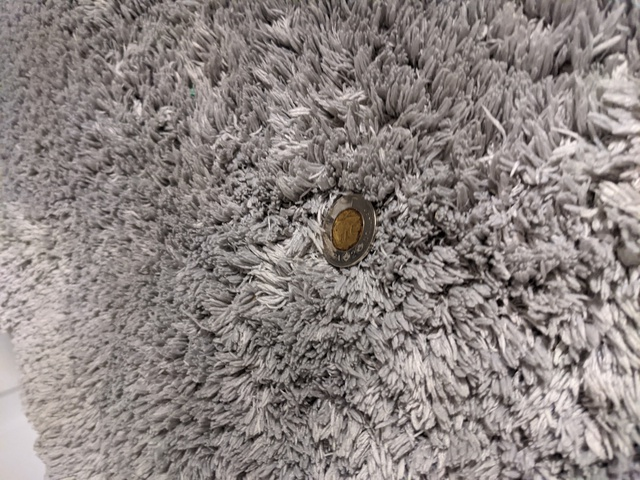twonie: (316, 186, 375, 269)
